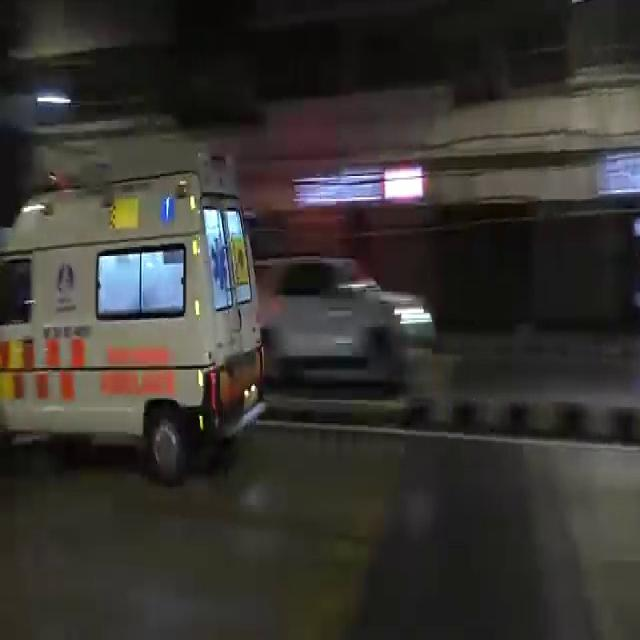ambulance: (0, 179, 263, 481)
